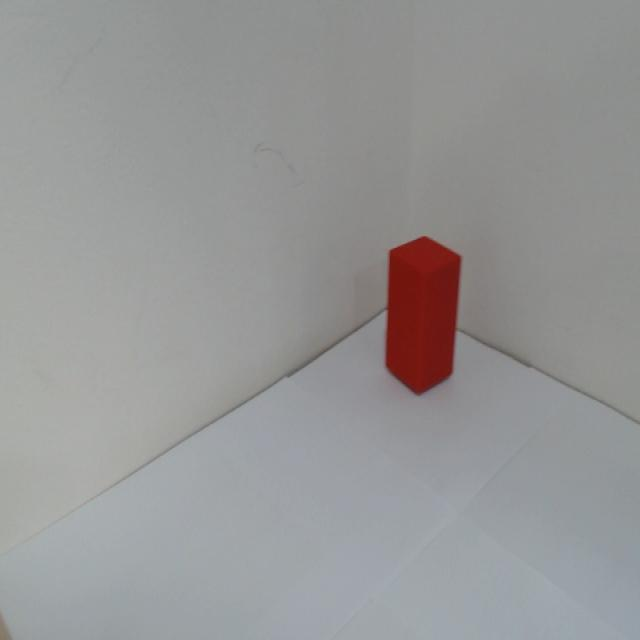cube: (376, 228, 467, 402)
